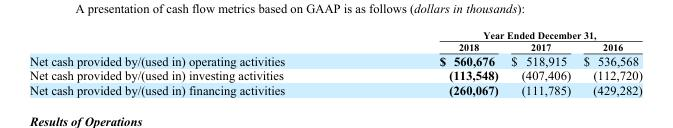table: (29, 29, 641, 96)
table column: (29, 29, 361, 96), (361, 29, 504, 96), (504, 29, 576, 96), (576, 29, 641, 96)
table column header: (29, 29, 641, 53)
table row: (29, 67, 641, 82), (29, 53, 641, 67), (29, 82, 641, 96), (29, 40, 641, 53), (29, 29, 641, 40)
table spanning cell: (361, 29, 641, 40)
